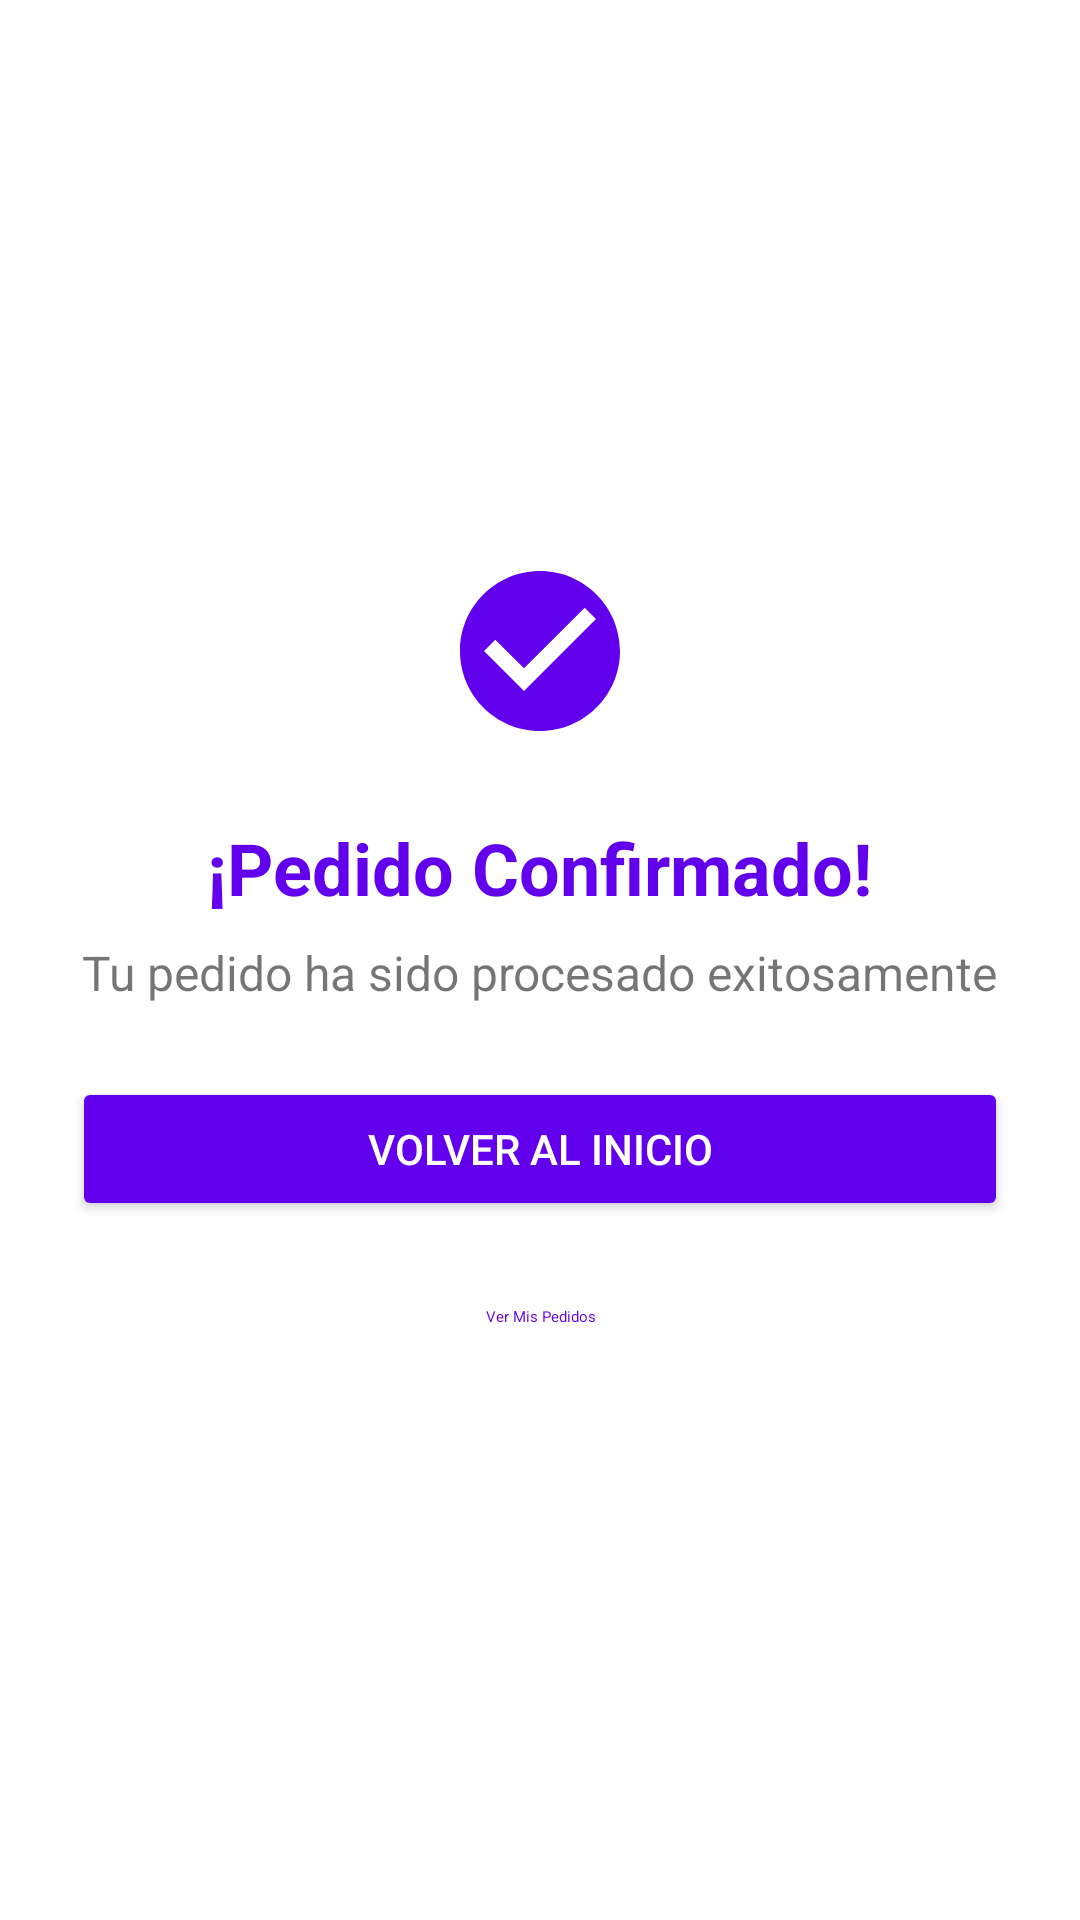

Icons on this 1080x1920 Android screen, each with the point to tap as (x=x, y=y):
check circle: (x=539, y=651)
